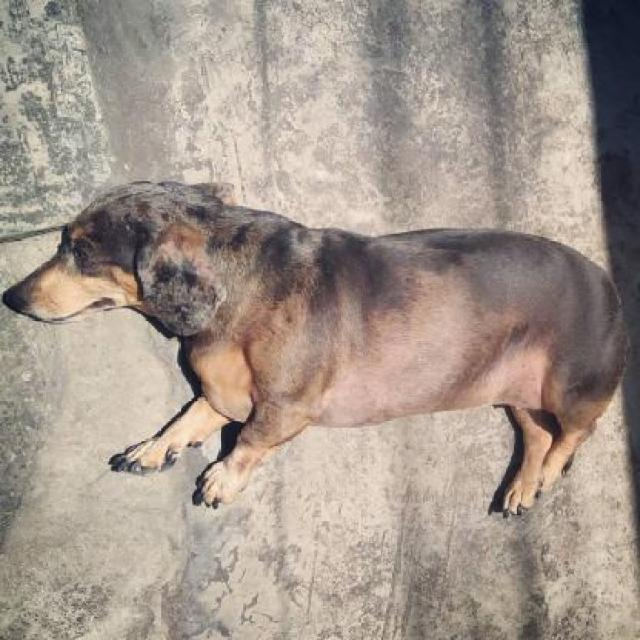Dog: (3, 176, 639, 518)
